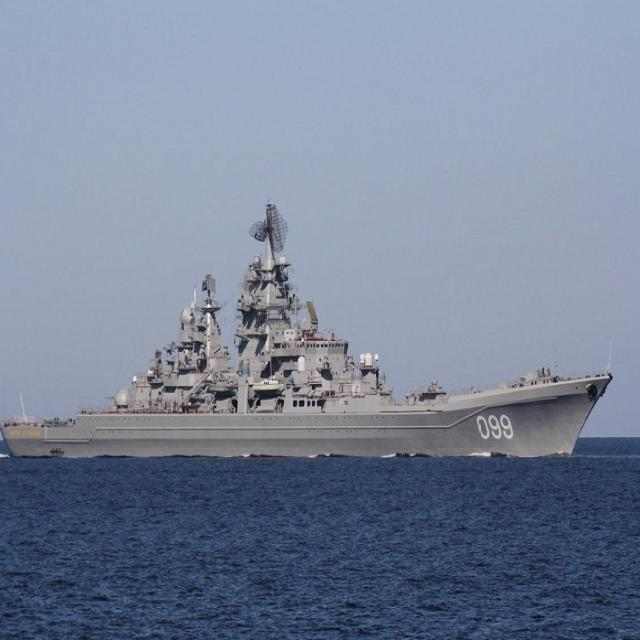navalvessels: (0, 167, 604, 493)
